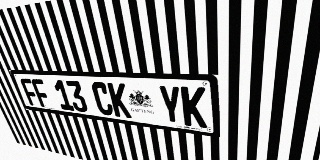1: (52, 80, 75, 111)
3: (65, 80, 89, 113)
C: (90, 82, 115, 116)
F: (30, 79, 53, 108), (19, 78, 41, 107)
K: (181, 86, 207, 128), (107, 82, 132, 118)
Y: (157, 85, 183, 125)
